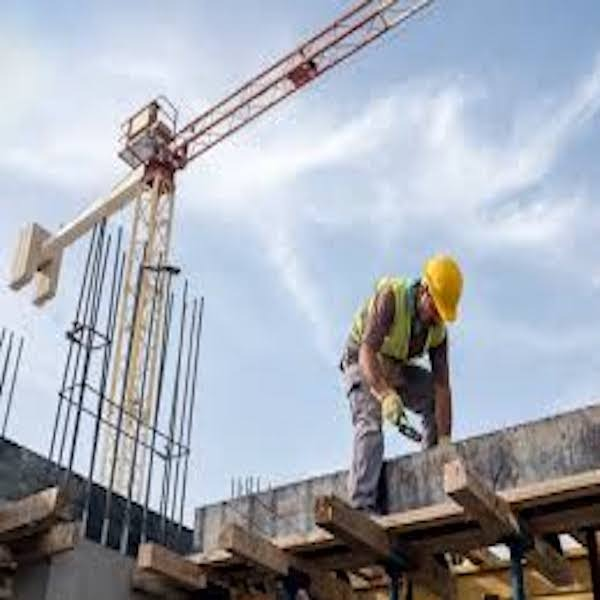helmet: (422, 251, 472, 325)
vest: (344, 282, 429, 373)
